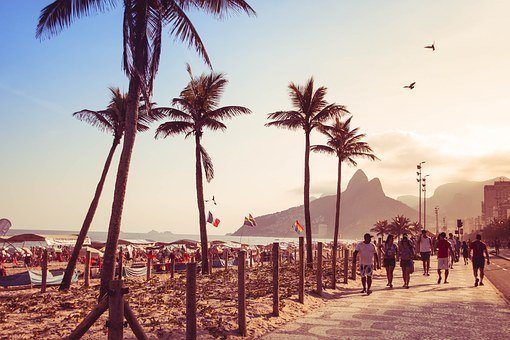beach: (5, 226, 343, 283)
tree: (45, 1, 187, 284), (154, 73, 237, 284), (278, 71, 361, 282)
